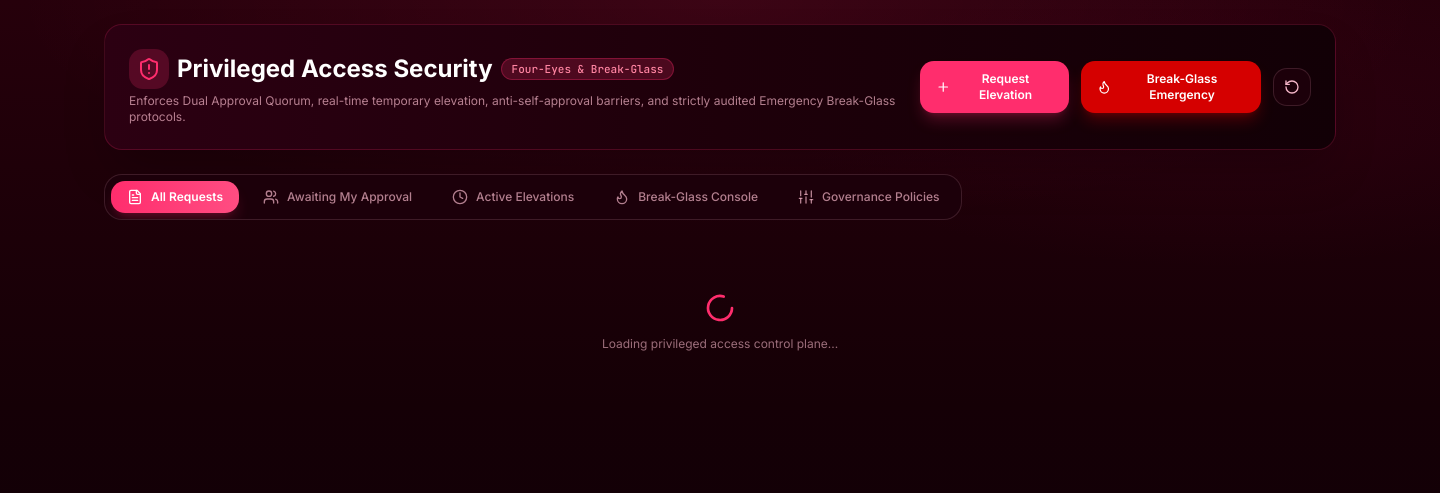
PrivilegedAccessCenter Component › switches to Awaiting My Approval tab and displays approval actions
Click the button "Awaiting My Approval": (338, 197) [247,181,428,213]
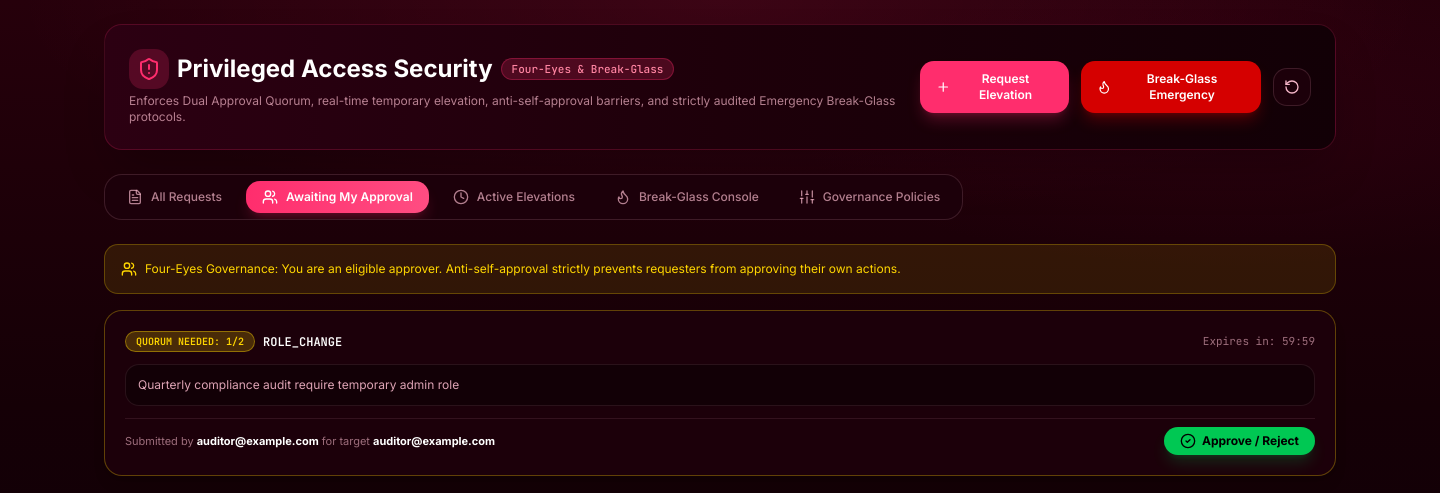
Result: the text "QUORUM NEEDED: 1/2" is shown at [125,331,255,352]
Result: the text "ROLE_CHANGE" is shown at [263,334,342,350]
Result: the text "Approve / Reject" is shown at [1202,433,1299,449]
